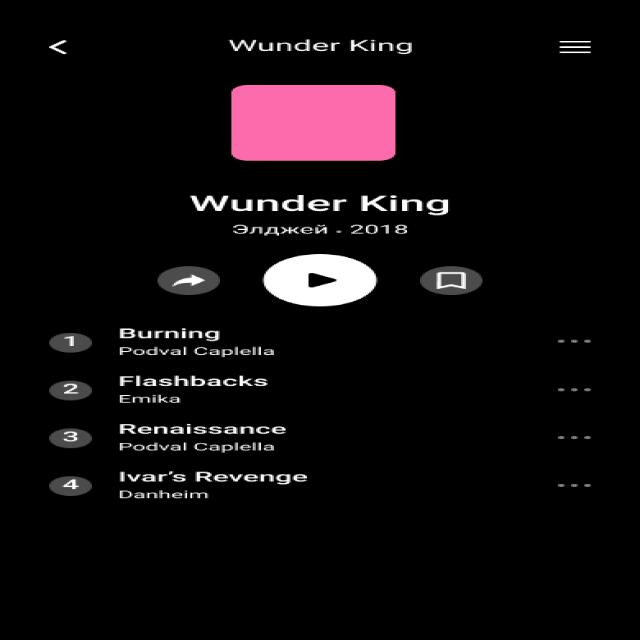icon button: (258, 252, 384, 311), (145, 255, 237, 306), (414, 260, 489, 303), (539, 23, 612, 66), (21, 24, 92, 66), (526, 376, 604, 403), (539, 425, 607, 451), (539, 472, 607, 497), (542, 332, 607, 357)
row: (33, 366, 618, 411), (40, 319, 636, 363), (40, 467, 628, 511), (43, 417, 615, 461)
text: (152, 190, 520, 241), (106, 322, 320, 359), (109, 420, 313, 456), (106, 373, 315, 408), (118, 468, 320, 502), (211, 28, 436, 58)
view: (181, 73, 460, 181)
